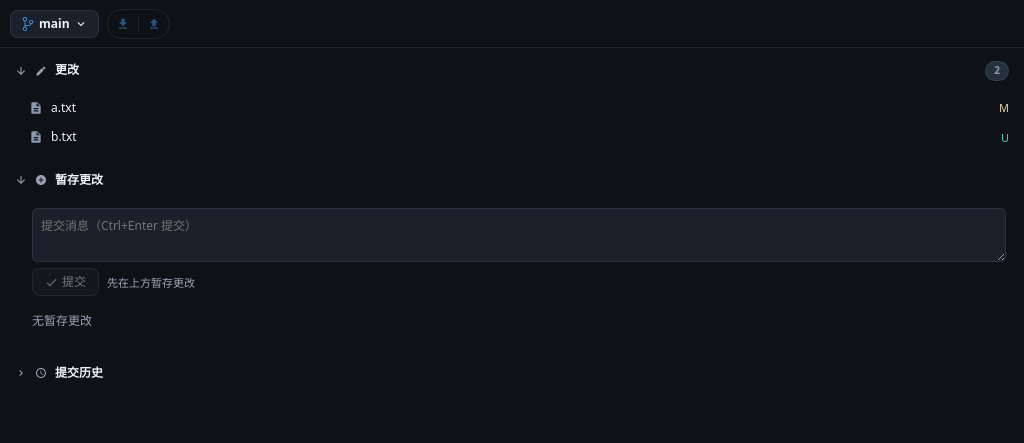
GitView 提交历史 › 无提交时显示空状态
历史区默认折叠，先展开
Click the button with class "git-section-head" showing "提交历史".
click(59, 372)  # box [15,364,103,381]
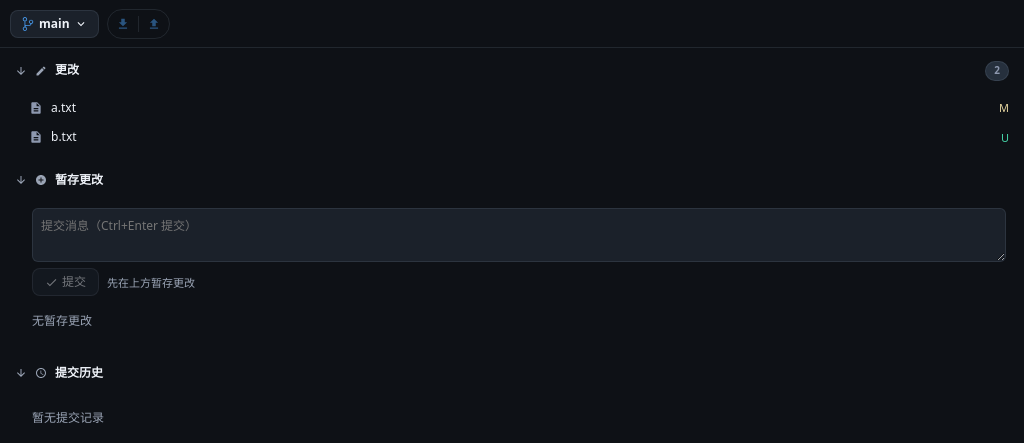
Result: the element with class "git-view" shows "暂无提交记录" at [32,410,104,426]
